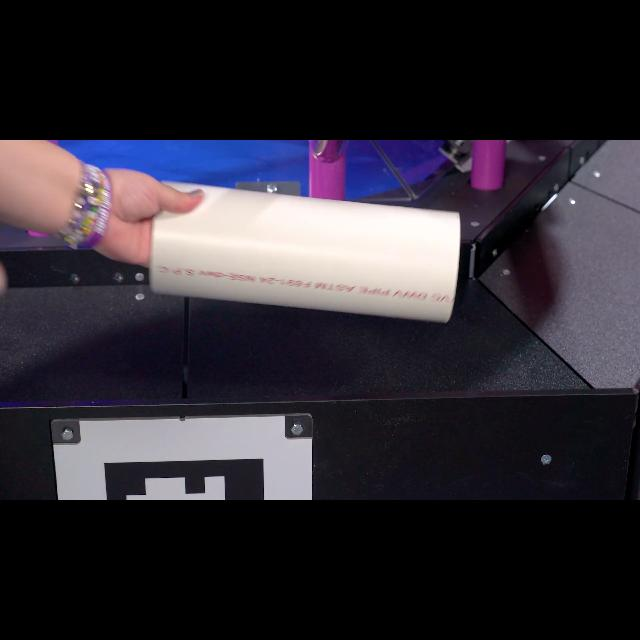CORAL: (147, 180, 461, 324)
